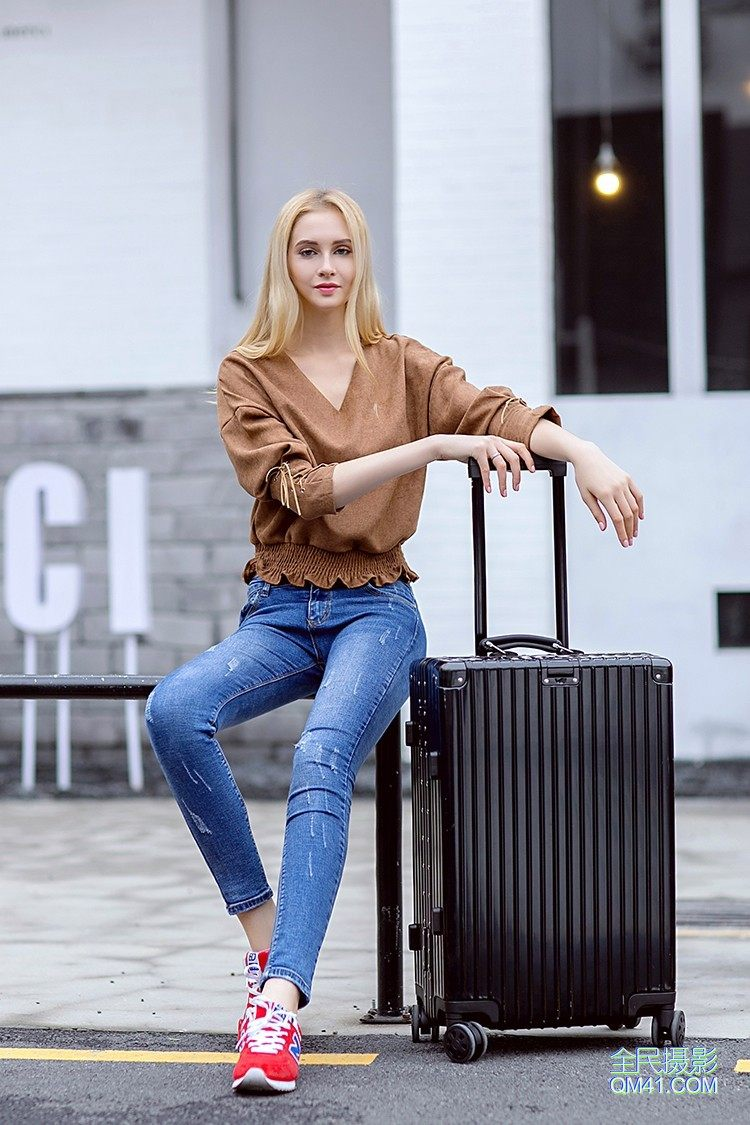box: (410, 653, 675, 1031)
handle: (480, 634, 580, 657)
wheel: (443, 1020, 488, 1063), (650, 1009, 686, 1048), (411, 1004, 440, 1043)
